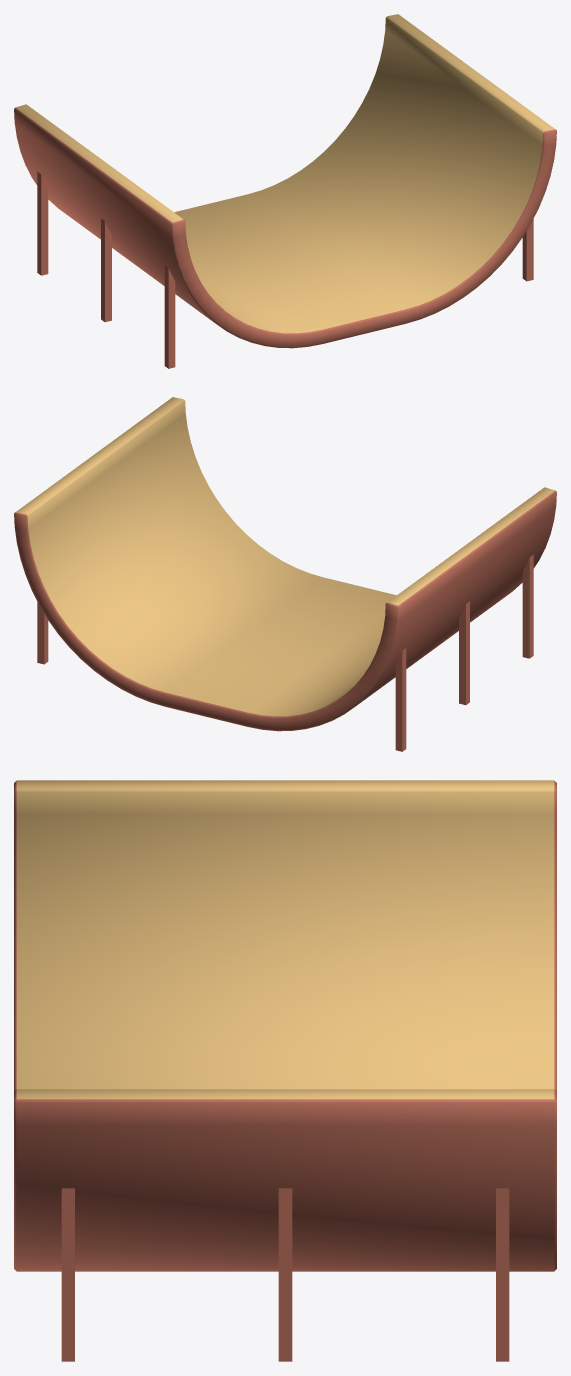
Rendered from Halfpipe.gltf.
3 views of the same model, one above another, from view 1: azimuth 30°, elevation 25°; view 2: azimuth 150°, elevation 25°; view 3: azimuth 270°, elevation 25° (orthographic). The views are drawn at different scales.
Visible parts, largest first — view 1: Cube; view 2: Cube; view 3: Cube.
Part boxes in pixels (<box>): Cube: <box>14,14,556,368</box>; Cube: <box>14,397,556,751</box>; Cube: <box>14,780,556,1361</box>.
Size of the model in its own units: 27.99 by 11 by 20.
